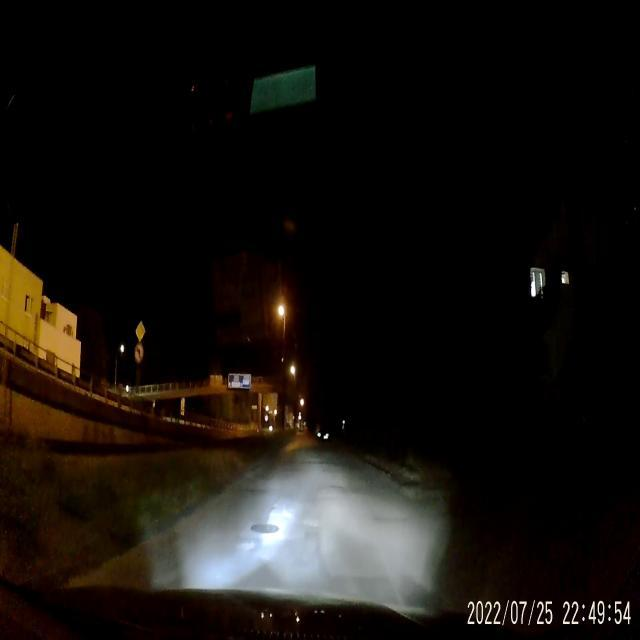Manhole: (249, 520, 281, 538)
